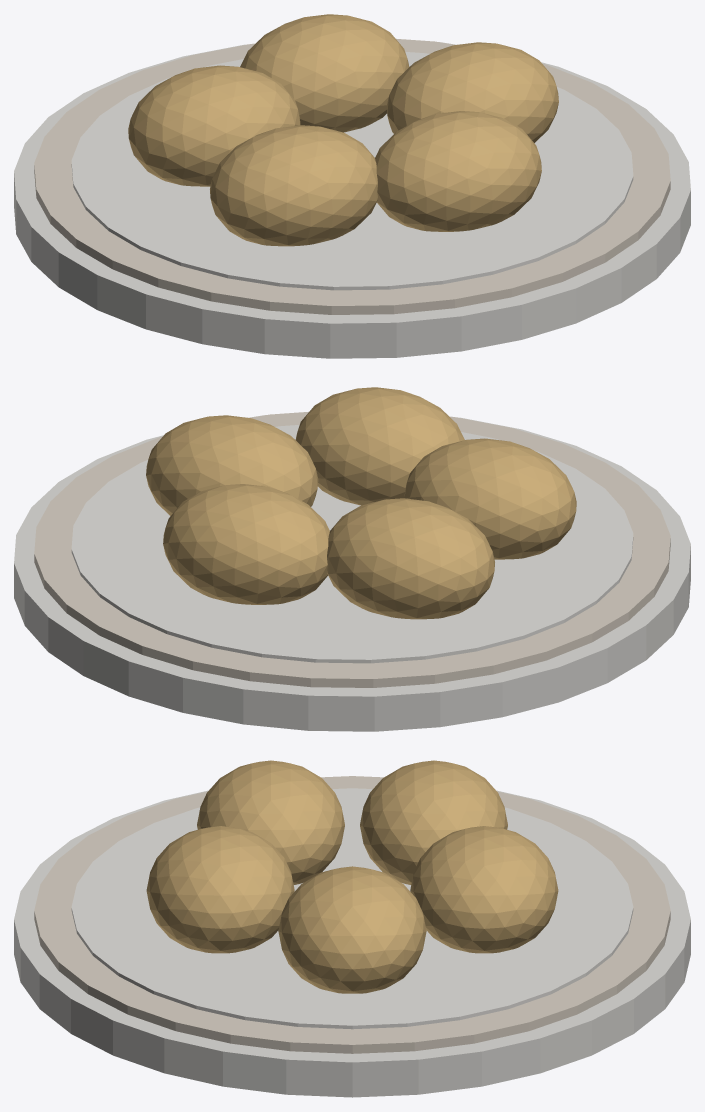
The model's file is banh_ga.glb.
3 views of the same model, one above another, from view 1: azimuth 30°, elevation 25°; view 2: azimuth 150°, elevation 25°; view 3: azimuth 270°, elevation 25° (orthographic).
Visible parts, largest first — view 1: obj_0002, obj_0000, obj_0001, obj_0007, obj_0005, obj_0009, obj_0011, obj_0003; view 2: obj_0002, obj_0000, obj_0001, obj_0009, obj_0011, obj_0007, obj_0005, obj_0003; view 3: obj_0002, obj_0000, obj_0001, obj_0003, obj_0005, obj_0011, obj_0007, obj_0009.
Part boxes in pixels (x1=…): obj_0002: x1=71, y1=52, x2=633, y2=290; obj_0000: x1=14, y1=42, x2=690, y2=358; obj_0001: x1=34, y1=38, x2=670, y2=314; obj_0007: x1=210, y1=125, x2=377, y2=246; obj_0005: x1=375, y1=111, x2=541, y2=231; obj_0009: x1=128, y1=65, x2=300, y2=186; obj_0011: x1=240, y1=14, x2=409, y2=132; obj_0003: x1=386, y1=42, x2=558, y2=142; obj_0002: x1=71, y1=425, x2=633, y2=663; obj_0000: x1=14, y1=415, x2=690, y2=731; obj_0001: x1=34, y1=411, x2=670, y2=687; obj_0009: x1=327, y1=498, x2=494, y2=619; obj_0011: x1=163, y1=484, x2=329, y2=604; obj_0007: x1=404, y1=438, x2=576, y2=559; obj_0005: x1=295, y1=387, x2=464, y2=505; obj_0003: x1=146, y1=415, x2=318, y2=515; obj_0002: x1=71, y1=788, x2=633, y2=1029; obj_0000: x1=14, y1=790, x2=690, y2=1097; obj_0001: x1=34, y1=776, x2=670, y2=1053; obj_0003: x1=278, y1=866, x2=426, y2=993; obj_0005: x1=146, y1=826, x2=294, y2=953; obj_0011: x1=410, y1=826, x2=558, y2=953; obj_0007: x1=197, y1=760, x2=344, y2=884; obj_0009: x1=360, y1=760, x2=507, y2=884.
Size of the model in its own units: 2.1 by 0.46 by 2.1.
